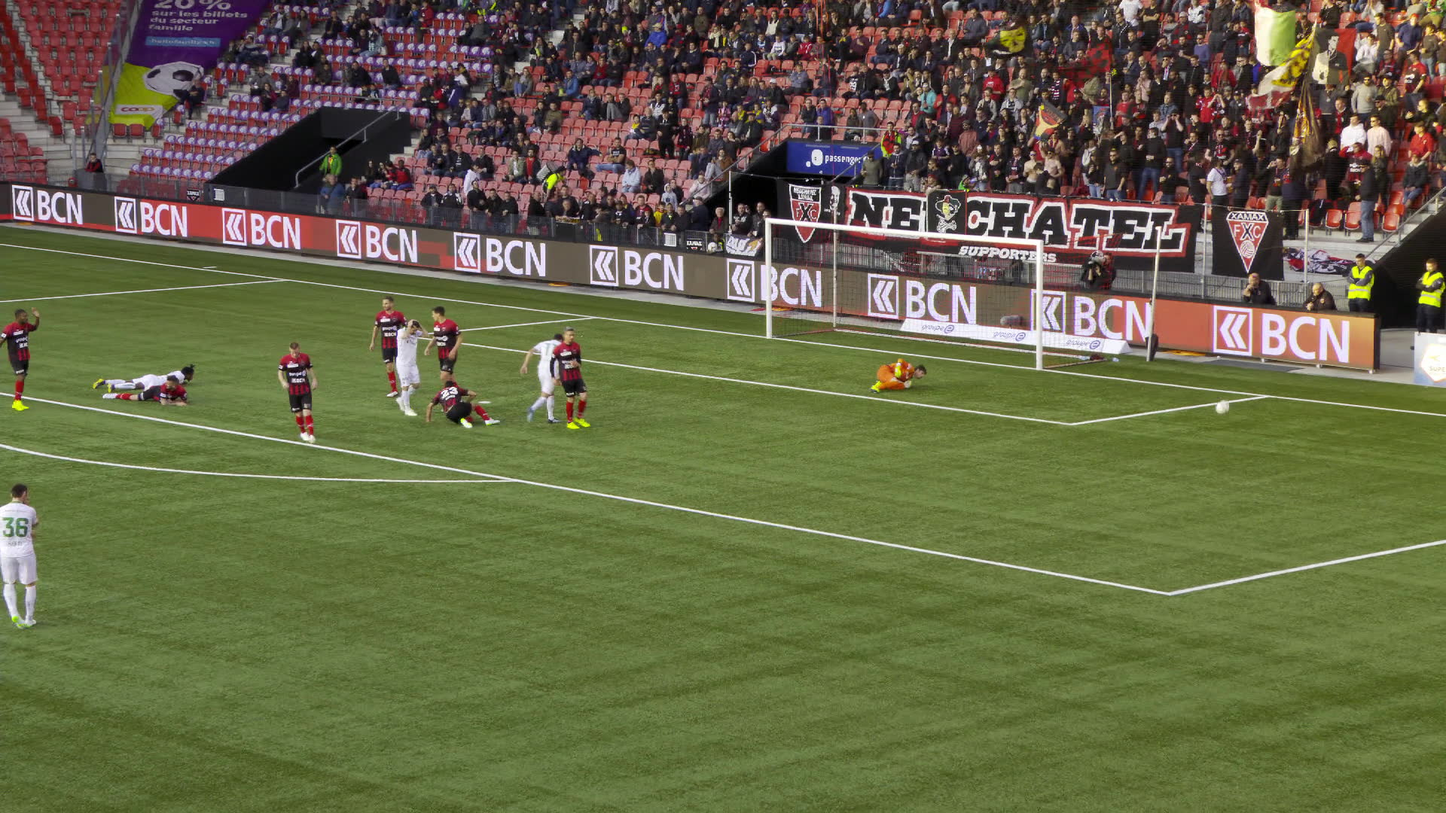ball: (1217, 398, 1231, 413)
player: (0, 481, 39, 629), (548, 325, 590, 428), (424, 305, 464, 410), (278, 342, 319, 443), (0, 307, 39, 410), (519, 333, 563, 424), (371, 296, 407, 396), (426, 379, 499, 428), (395, 319, 427, 416), (93, 364, 194, 393), (103, 376, 189, 406), (864, 357, 925, 392)
